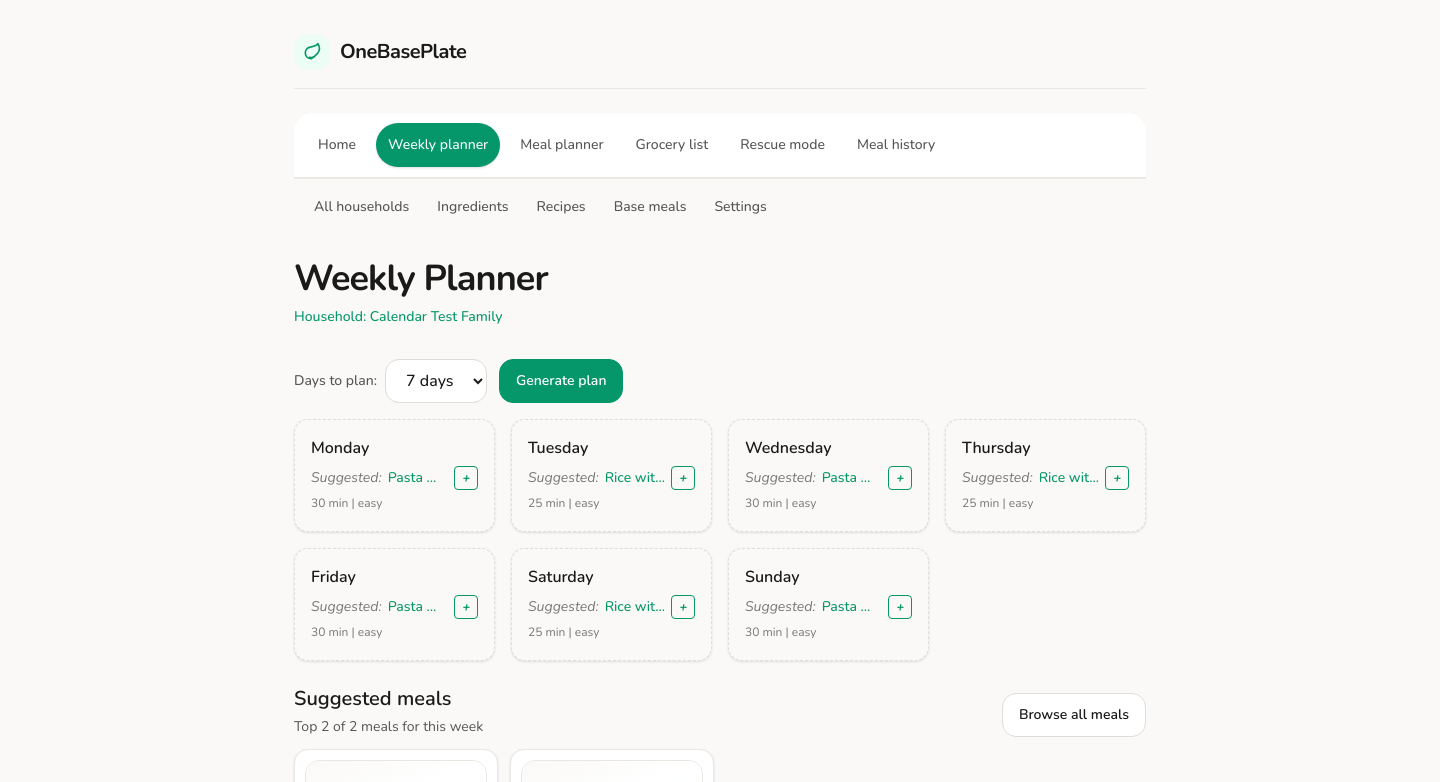
Test: F021: Weekly Planner always shows day cards › opens meal details modal when suggested recipe link is clicked
Step 1. Click the button with test id "suggested-meal-details-monday" → x=418, y=478, box 388,468 -> 448,488
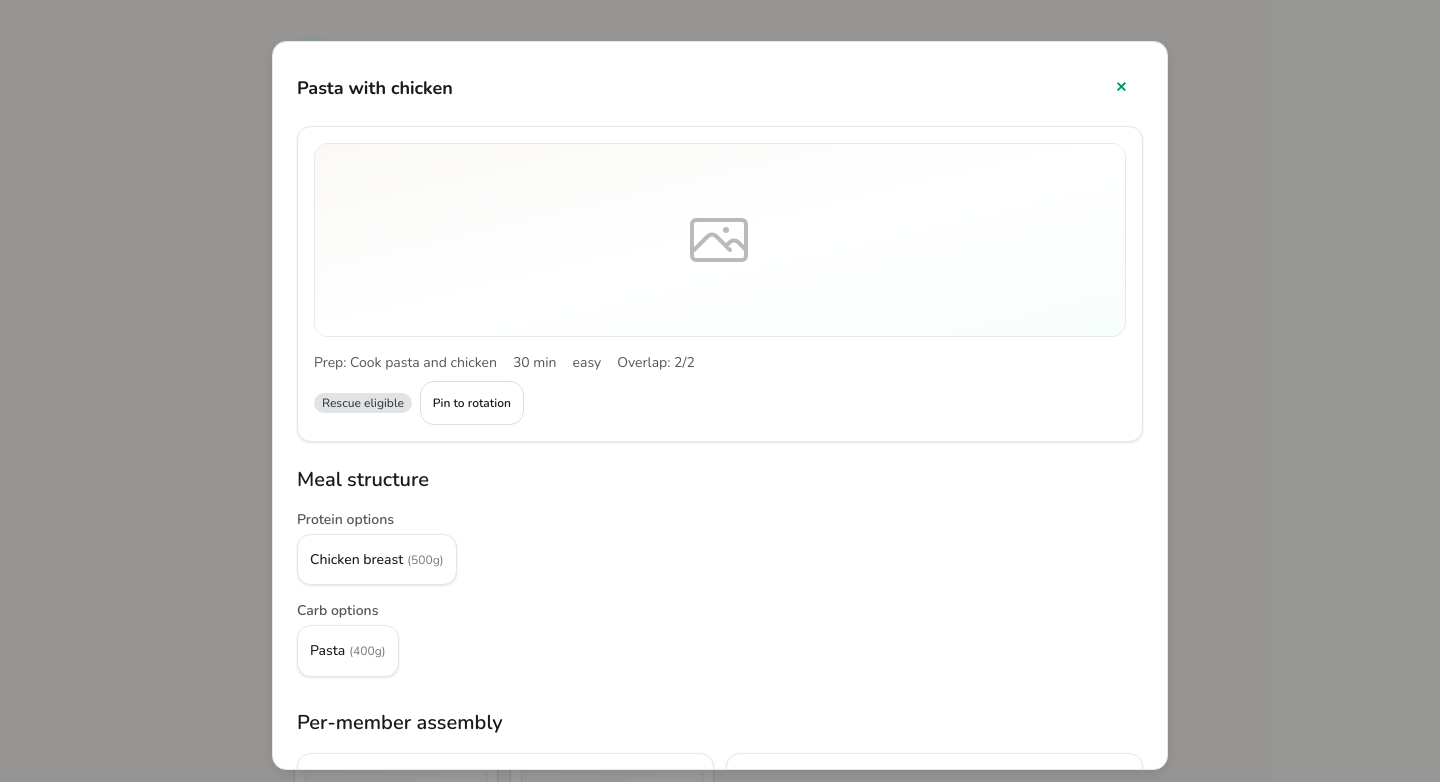
Result: the element with test id "meal-details-modal" is shown at 297,66 -> 1143,770
Result: the heading "Pasta with chicken" is shown at 297,74 -> 453,102
